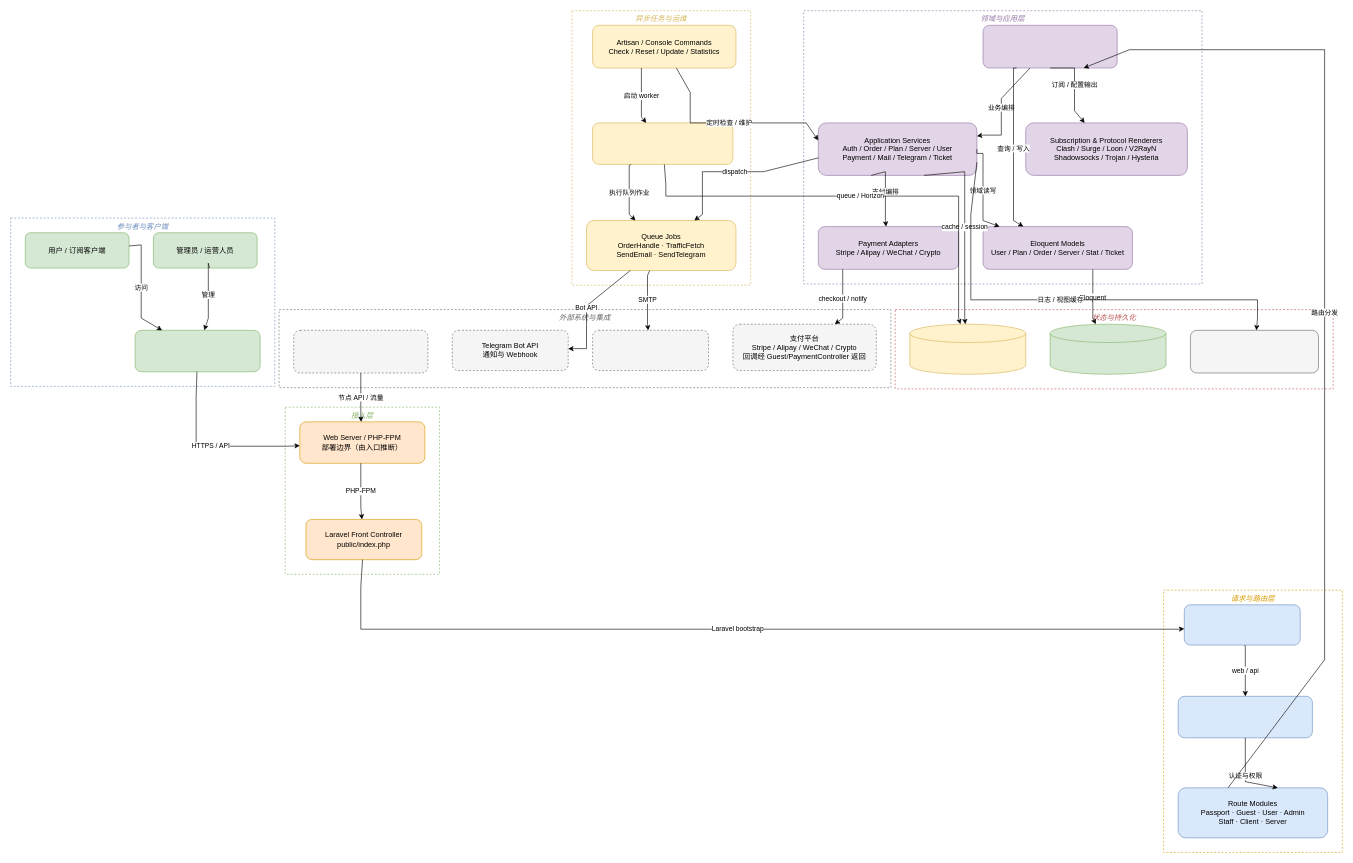
The diagram is 1353 pixels wide and 863 high, and some of its shapes have lost their labels. The centre of each missing label's shape, as x and y in pixels:
Controllers 认证、订购、节点、工单、统计: point (1049, 46)
HTTP Middleware JSON / Language / Auth / Log: point (1245, 717)
Laravel Horizon Worker PM2: php artisan horizon: point (662, 143)
Local Storage logs / framework cache / views: point (1254, 351)
MySQL install.sql / update.sql 业务主数据与统计: point (1108, 349)
Redis Cache · Session · Queue Horizon metadata: point (967, 349)
RouteServiceProvider /api/v1 + web routes: point (1242, 624)
SMTP / Mailgun 邮件投递服务: point (650, 350)
Web / Admin UI Blade + public/assets: point (197, 351)
代理节点 / 节点程序 Server API + 流量上报: point (360, 351)
